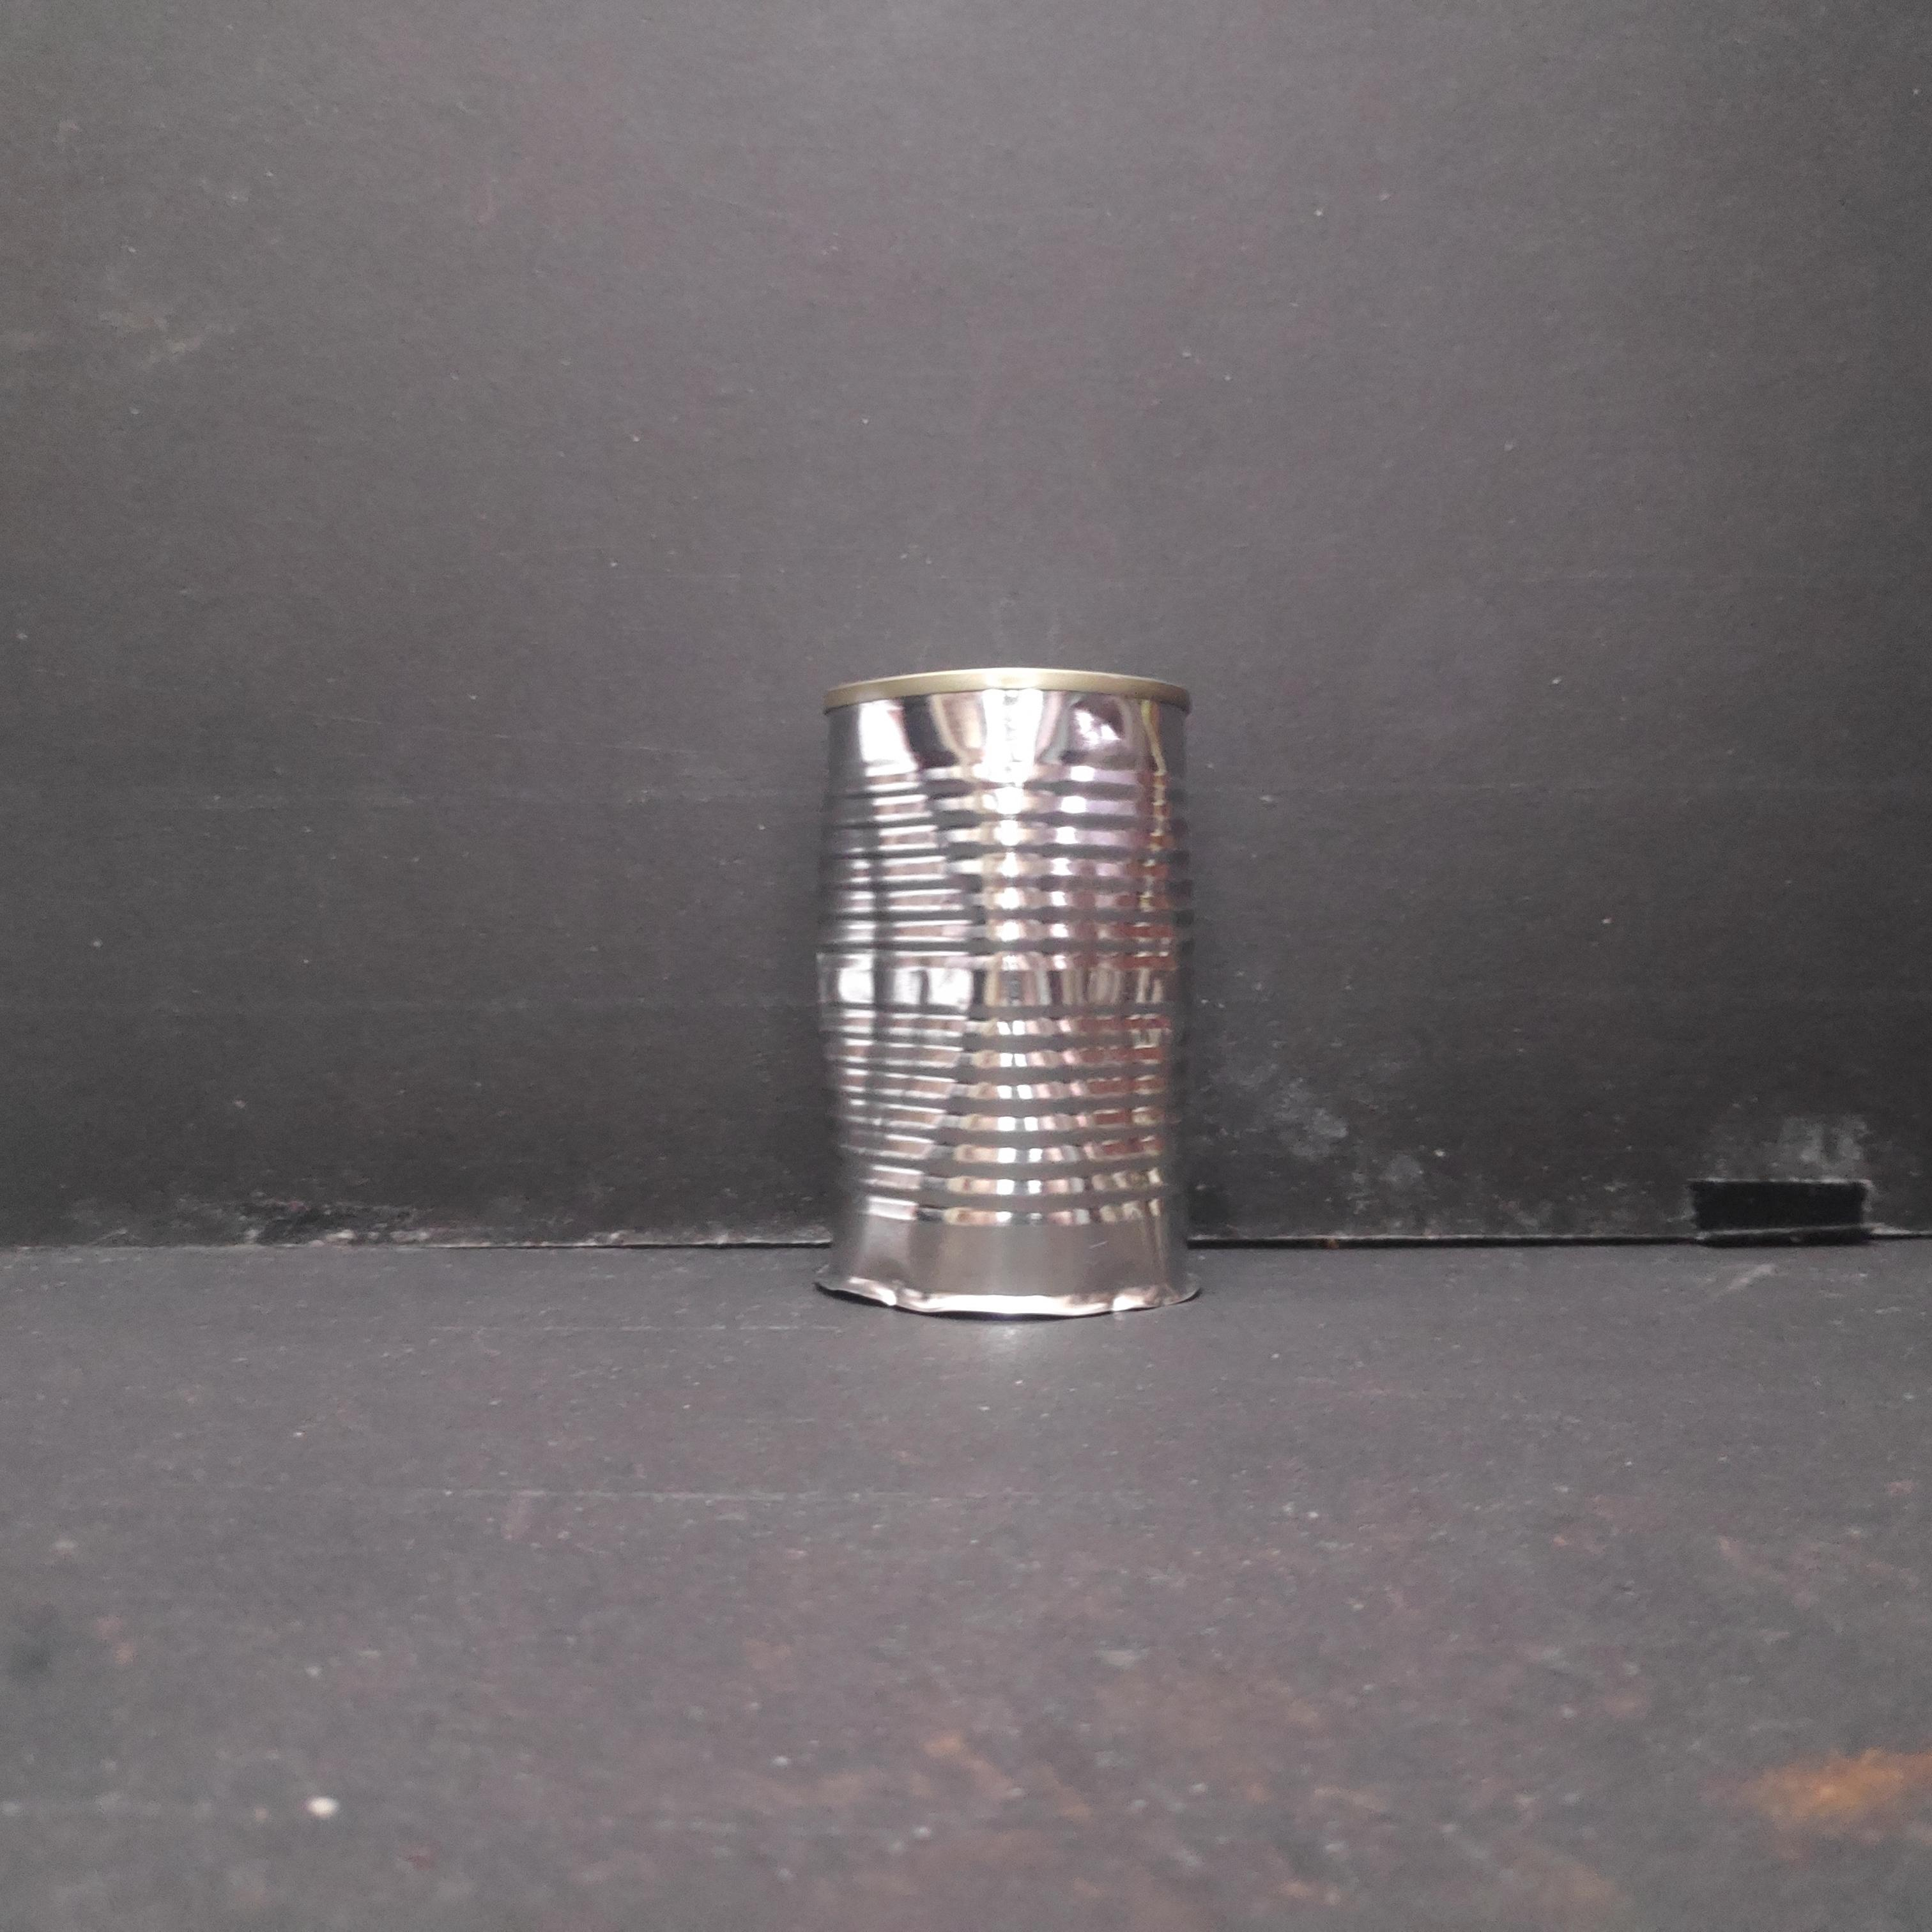Minor Defect: (807, 665, 1201, 1325)
